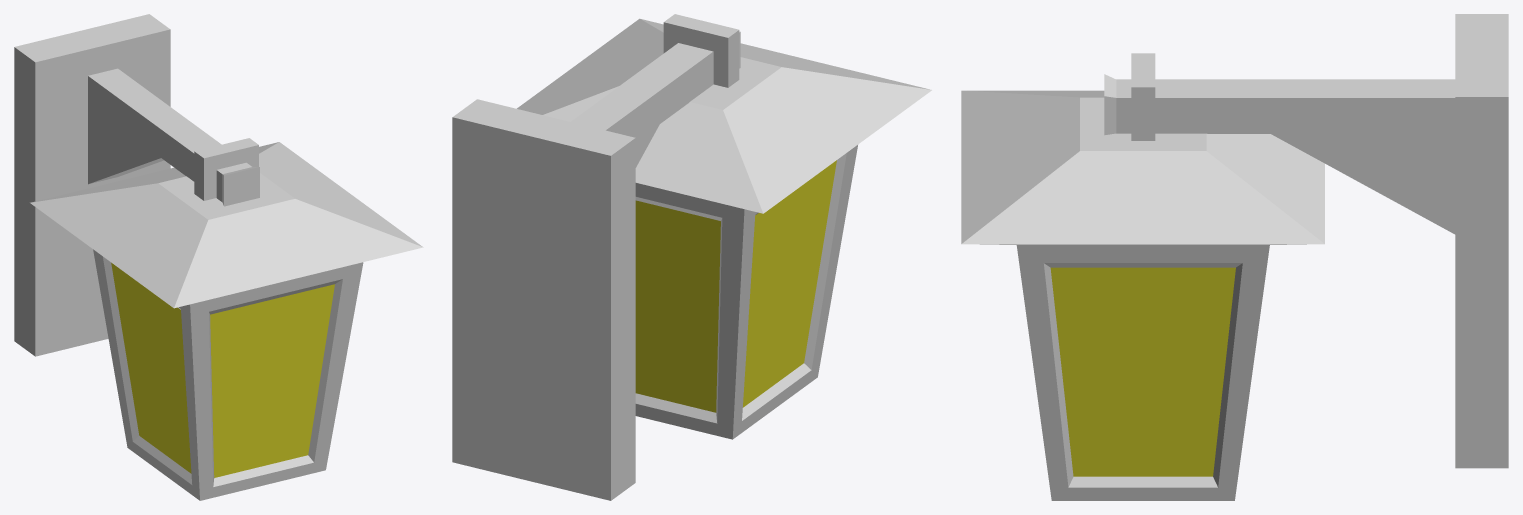
The model's file is lantern.glb.
The picture shows the model from 3 angles, left to right: view 1: azimuth 30°, elevation 25°; view 2: azimuth 150°, elevation 25°; view 3: azimuth 270°, elevation 25°; orthographic projection. The views are drawn at different scales.
Parts seen in each view (by area): view 1: lantern1; view 2: lantern1; view 3: lantern1.
Part boxes in pixels (bbox=[...]): lantern1: bbox=[14, 14, 423, 500]; lantern1: bbox=[452, 14, 931, 500]; lantern1: bbox=[961, 14, 1508, 500].
Size of the model in its own units: 0.2037 by 0.266 by 0.3065.
